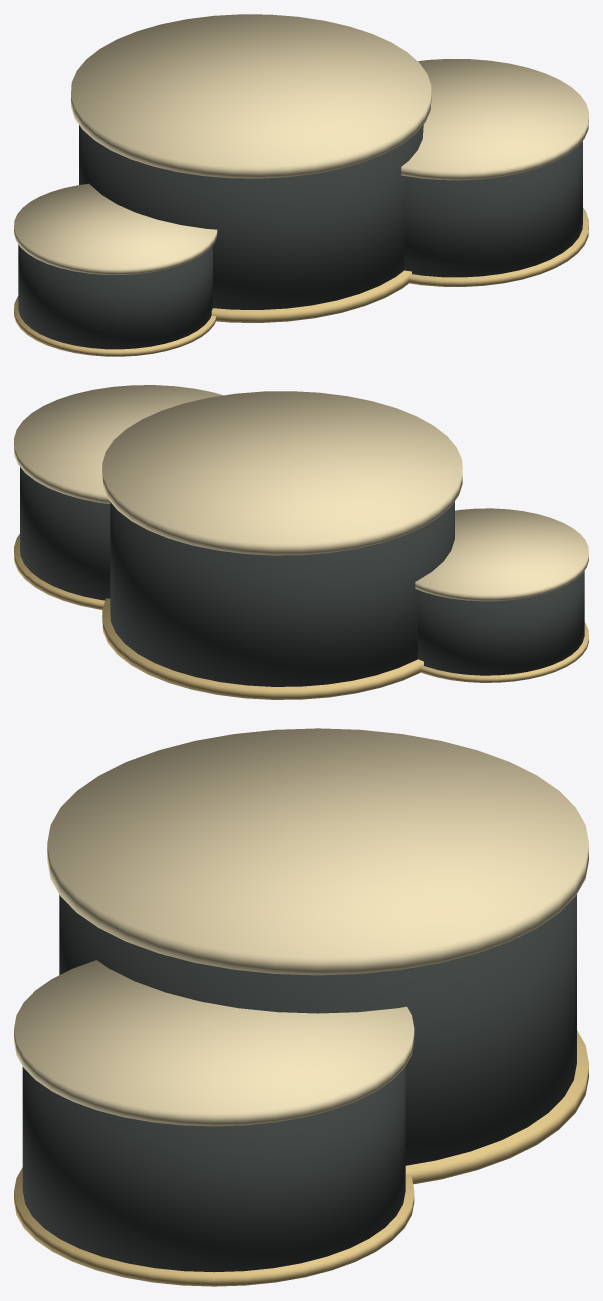
Rendered from podium-trio.glb.
3 views of the same model, one above another, from view 1: azimuth 30°, elevation 25°; view 2: azimuth 150°, elevation 25°; view 3: azimuth 270°, elevation 25° (orthographic). The views are drawn at different scales.
Visible parts, largest first — view 1: upper-rim-1, body-0, lower-rim-2; view 2: upper-rim-1, body-0, lower-rim-2; view 3: upper-rim-1, body-0, lower-rim-2.
Boxes of the visible parts, x1,y1,x2,y2 form: upper-rim-1: [14, 14, 588, 274]; body-0: [18, 125, 582, 349]; lower-rim-2: [14, 207, 588, 356]; upper-rim-1: [14, 385, 588, 601]; body-0: [20, 467, 584, 686]; lower-rim-2: [14, 534, 588, 699]; upper-rim-1: [14, 728, 588, 1126]; body-0: [22, 894, 576, 1272]; lower-rim-2: [14, 1030, 588, 1286].
Bounding box in the file's own units: 2.72 × 0.7475 × 1.66.
